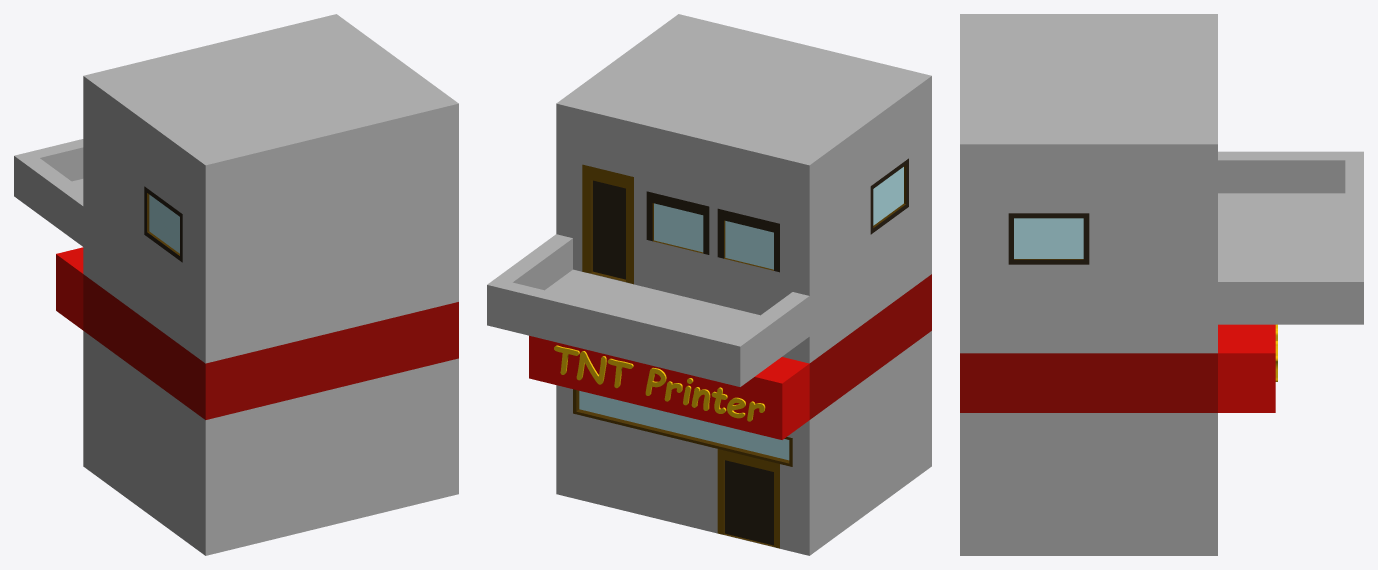
The model's file is ปริ้นเตอร์.fbx.
3 renders of one model, left to right at view 1: azimuth 30°, elevation 25°; view 2: azimuth 150°, elevation 25°; view 3: azimuth 270°, elevation 25°, orthographic. The views are drawn at different scales.
Visible parts, largest first — view 1: Cube; view 2: Cube, Text; view 3: Cube.
Boxes of the visible parts, x1,y1,x2,y2 form: Cube: (14, 14, 458, 555); Cube: (487, 14, 931, 555); Text: (554, 345, 765, 421); Cube: (960, 14, 1363, 555).
Size of the model in its own units: 1164 by 1715 by 1525.
